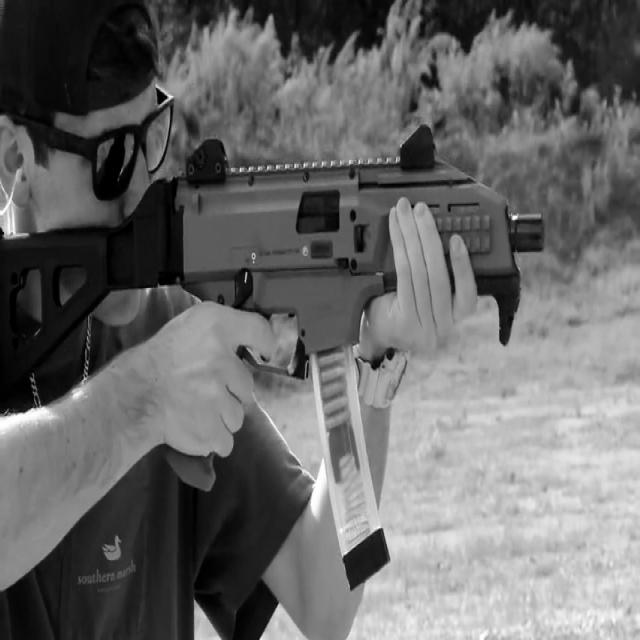Sub-machine-gun: (0, 115, 571, 640)
